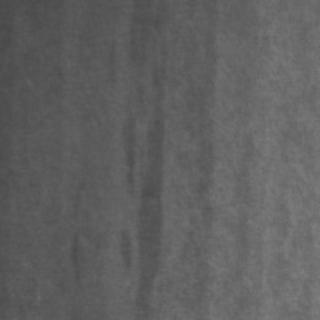inclusion: (111, 40, 171, 314), (60, 222, 88, 290)
